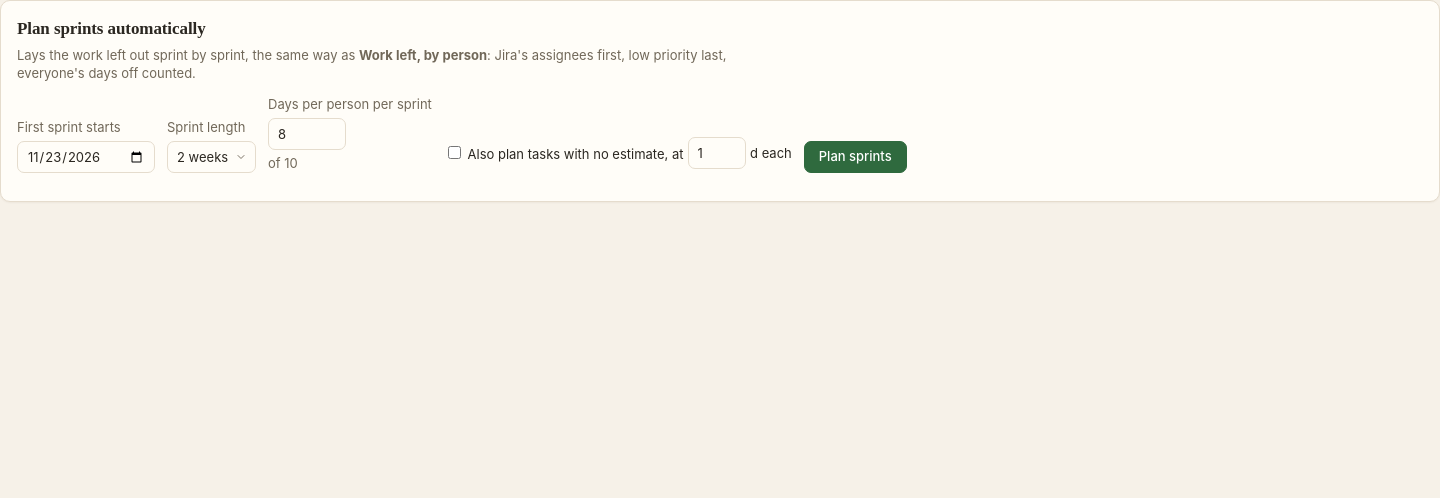
AutoSprintPlanner › can plan the tasks with no estimate too
Step 1. Click the checkbox labelled "Also plan tasks with no estimate, at" → (454, 152), box [448,146,461,159]
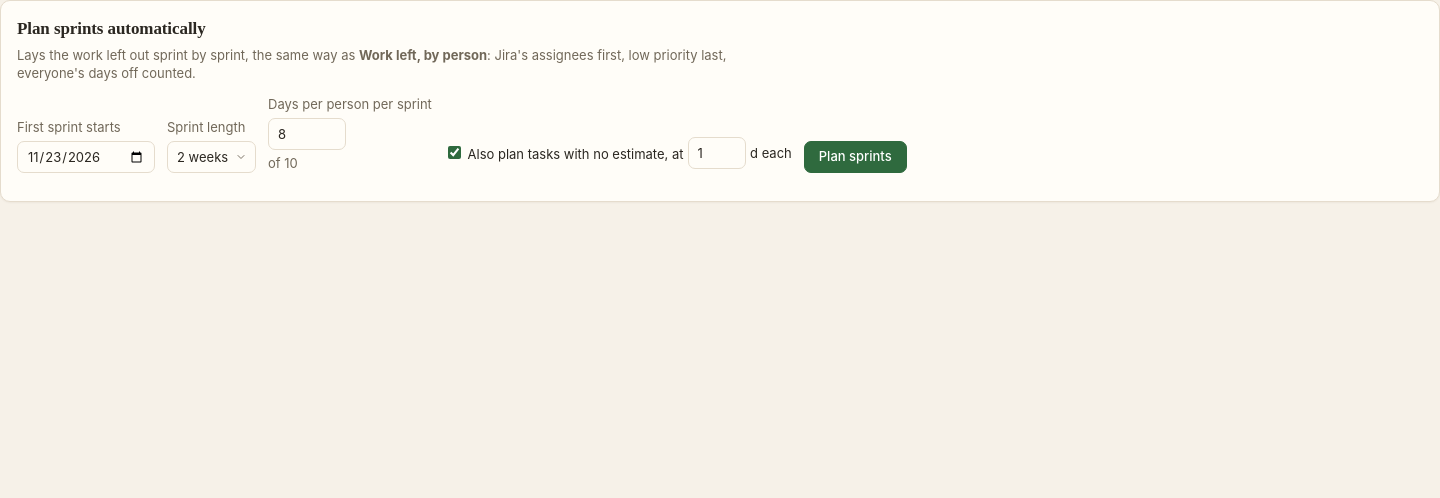
Step 2. Click the button "Plan sprints" → (855, 157), box [804,141,907,173]
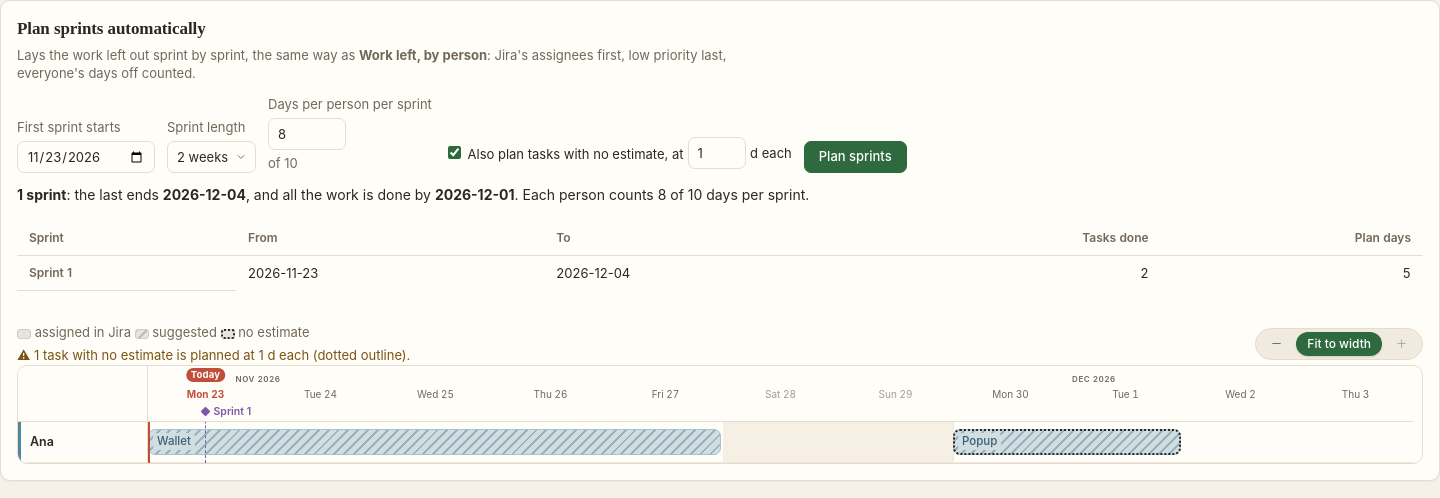
Expected: the text "1 task with no estimate is planned at 1 d each (dotted outline)." is shown, [34,347,410,363]
